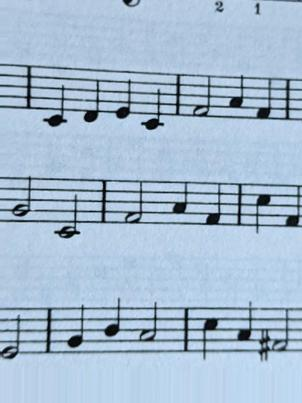note: (38, 62, 70, 131), (138, 67, 169, 137), (196, 302, 221, 367), (79, 65, 103, 129), (232, 298, 254, 365), (200, 179, 226, 235), (100, 296, 123, 359), (167, 175, 191, 233), (65, 300, 88, 359), (115, 64, 135, 131), (251, 179, 273, 237), (227, 68, 248, 127), (252, 71, 272, 129), (281, 181, 302, 236)
